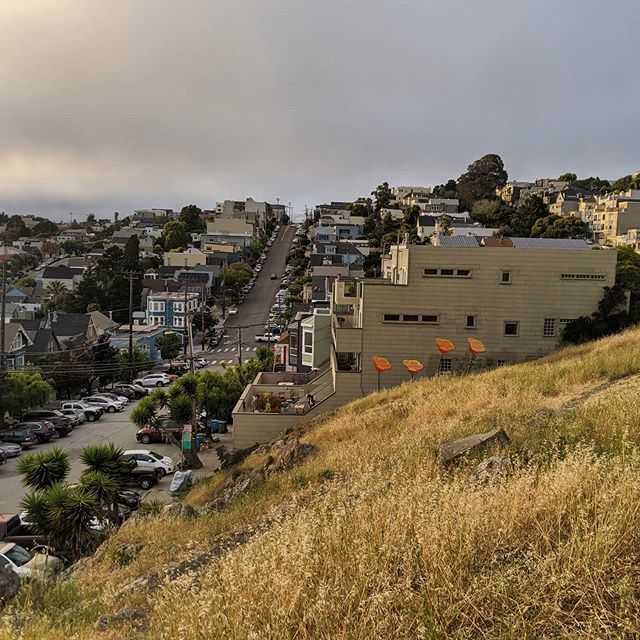building: (242, 246, 593, 419), (145, 291, 202, 332), (202, 208, 259, 249), (315, 206, 372, 247)
grass: (60, 361, 640, 640)
sky: (1, 1, 640, 198)
street: (9, 369, 244, 537), (212, 237, 293, 363)
